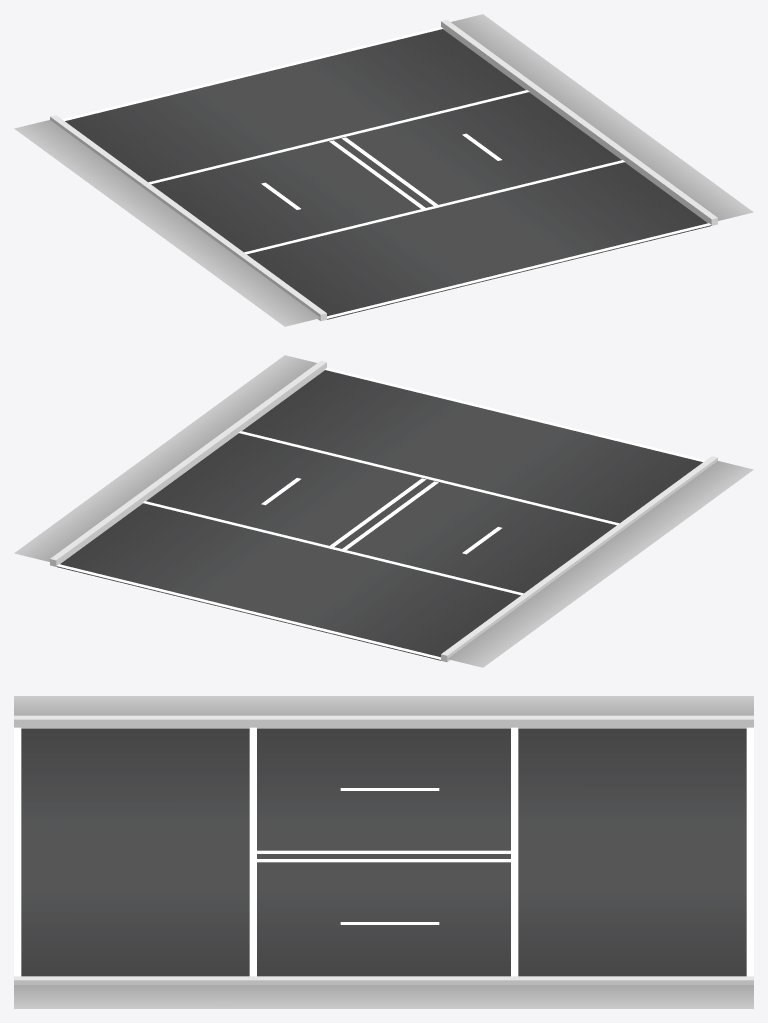
The model's file is road_021.glb.
3 renders of one model, top to bottom at view 1: azimuth 30°, elevation 25°; view 2: azimuth 150°, elevation 25°; view 3: azimuth 270°, elevation 25°, orthographic. The views are drawn at different scales.
Visible parts, largest first — view 1: road_021; view 2: road_021; view 3: road_021.
Part boxes in pixels (left/top/right/bottom): road_021: left=14, top=14, right=753, bottom=326; road_021: left=14, top=355, right=753, bottom=667; road_021: left=14, top=696, right=753, bottom=1008.
Bounding box in the file's own units: 15 × 0.2 × 15.
1 material, 1 textured.
